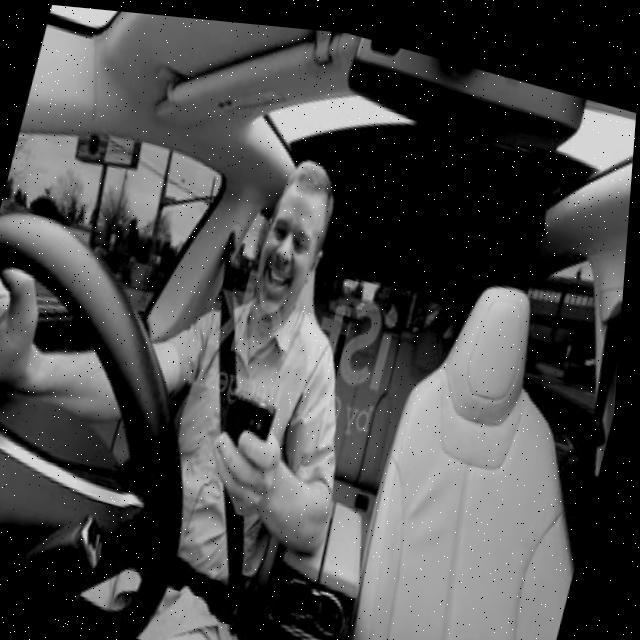PhoneCall: (215, 384, 284, 494)
